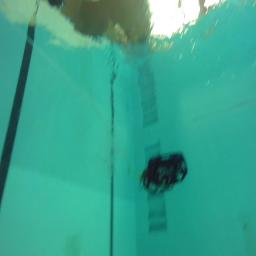Side: (142, 152, 188, 194)
